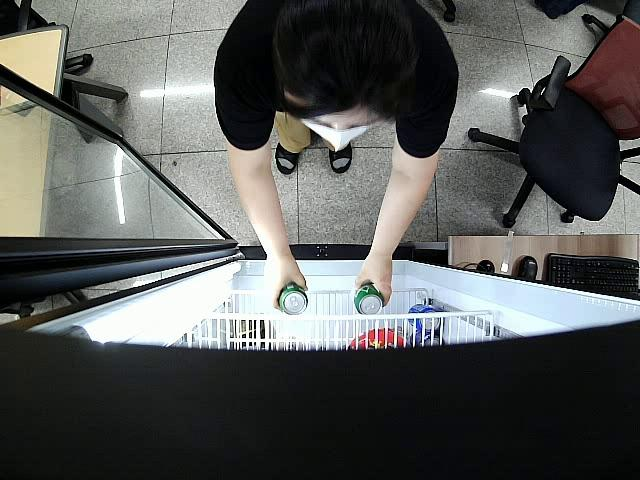00_hand: (263, 255, 308, 310), (355, 255, 393, 305)
12_chilsungCider: (277, 283, 307, 315), (353, 284, 383, 316)
